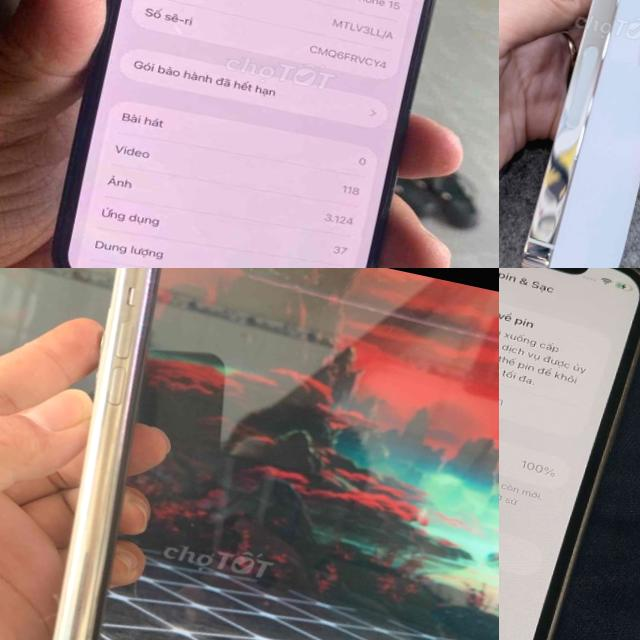gen_11: (21, 268, 200, 640)
gen_12_13: (499, 268, 640, 640)
gen_14: (502, 0, 640, 268)
gen_15: (37, 0, 477, 268)
scratch: (106, 268, 172, 464)
